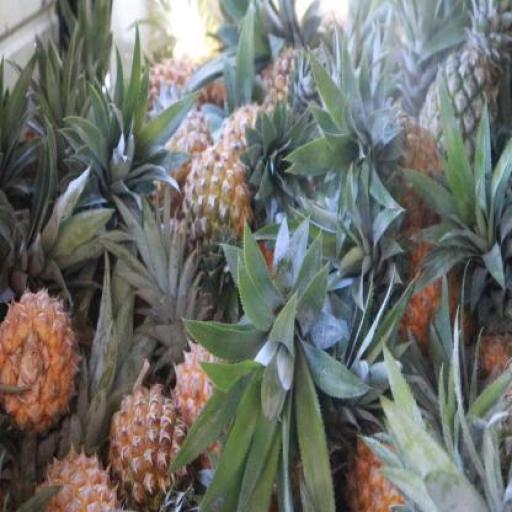------------------------------: (184, 144, 252, 278)
Pineapple - v8 v1: (0, 294, 79, 428), (110, 388, 187, 512)
